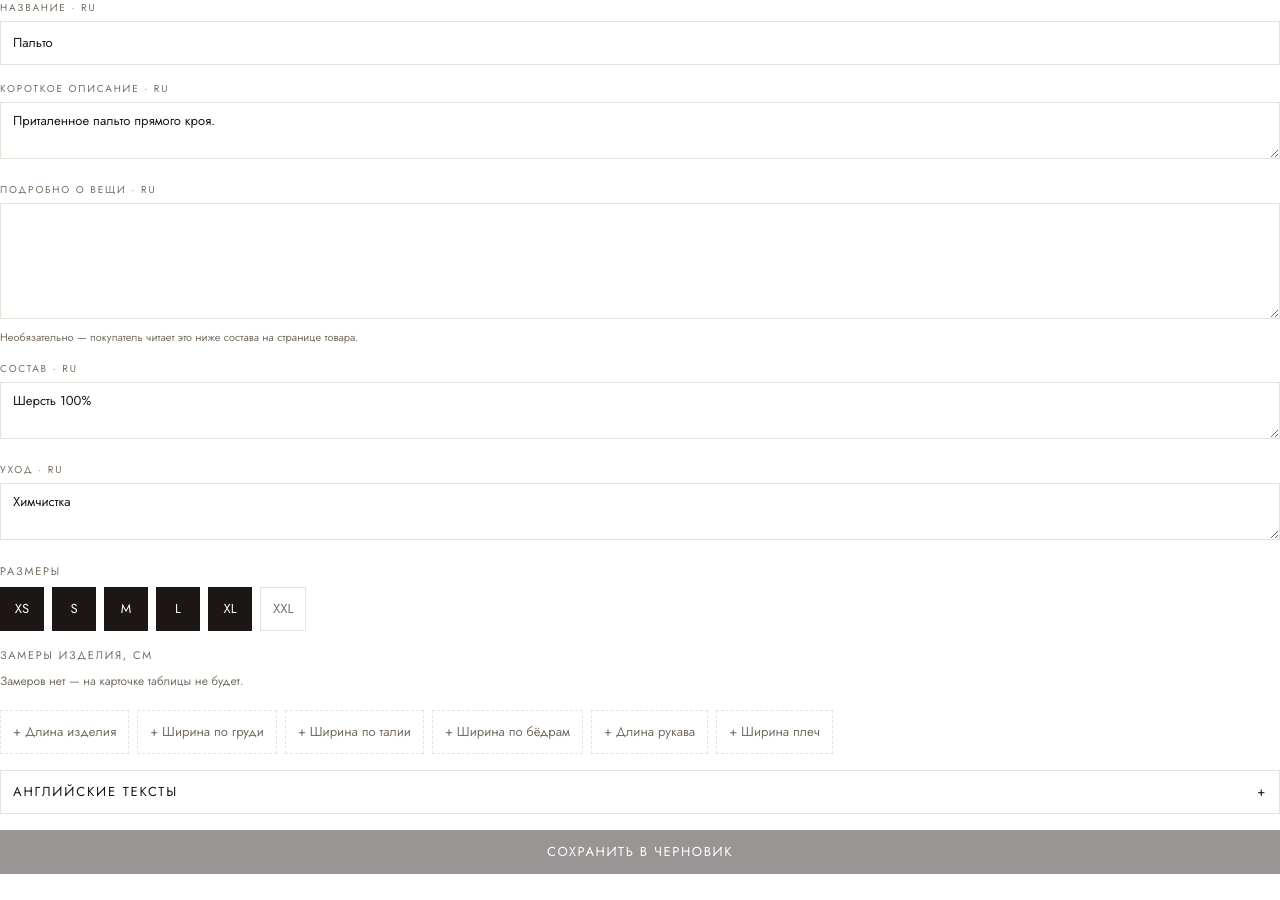
Test: ModelForm — замеры изделия › клетка не с шагом 0,5 — сказано у клетки, сохранение закрыто
Expected: the field labelled "Название · ru" is shown, 0,21 -> 1279,65
Click the button "+ Длина рукава" at (650, 732), box 591,710 -> 708,754
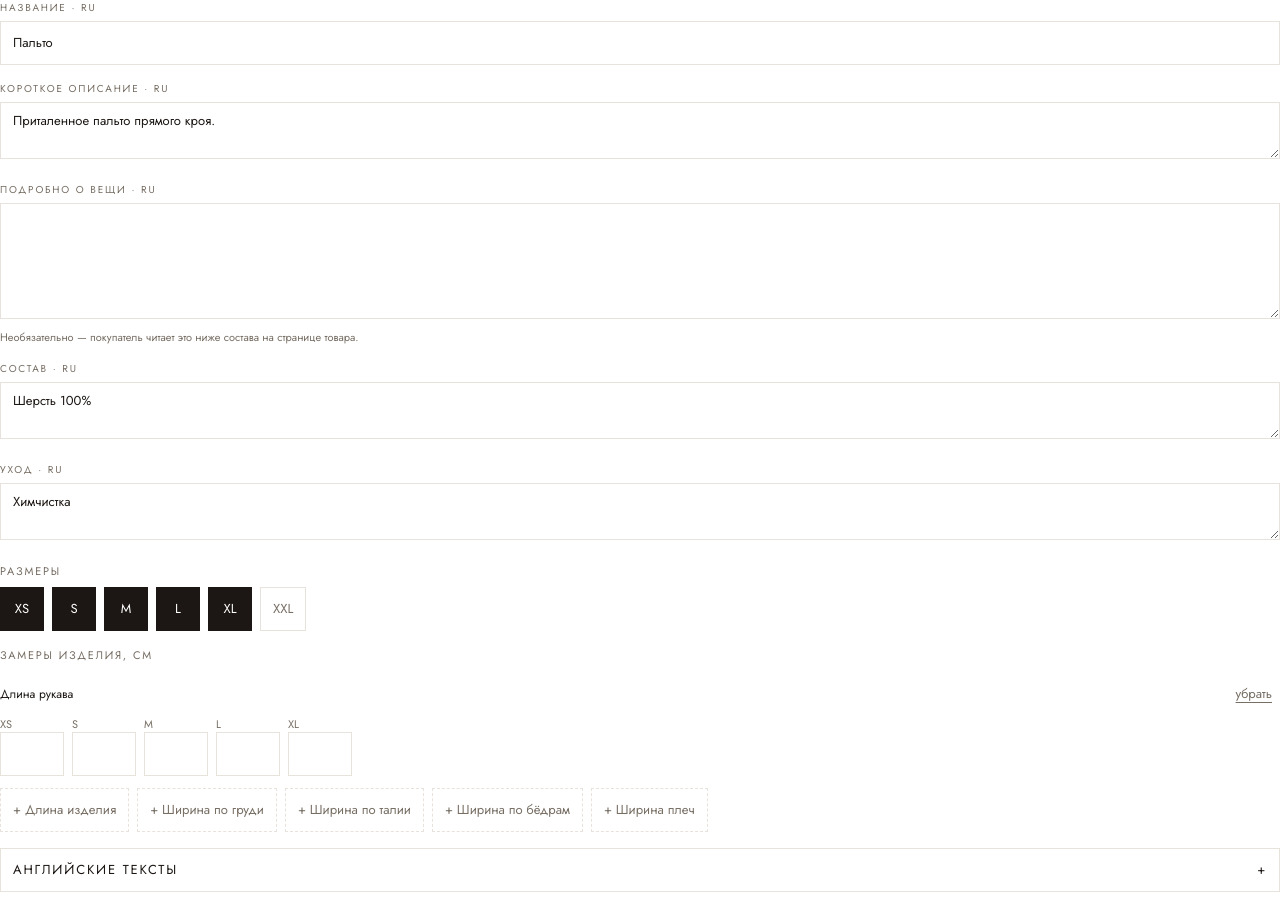
Type "60,3" into the field named "Длина рукава · M" at (176, 754), box 144,732 -> 208,776
(page scrolled)
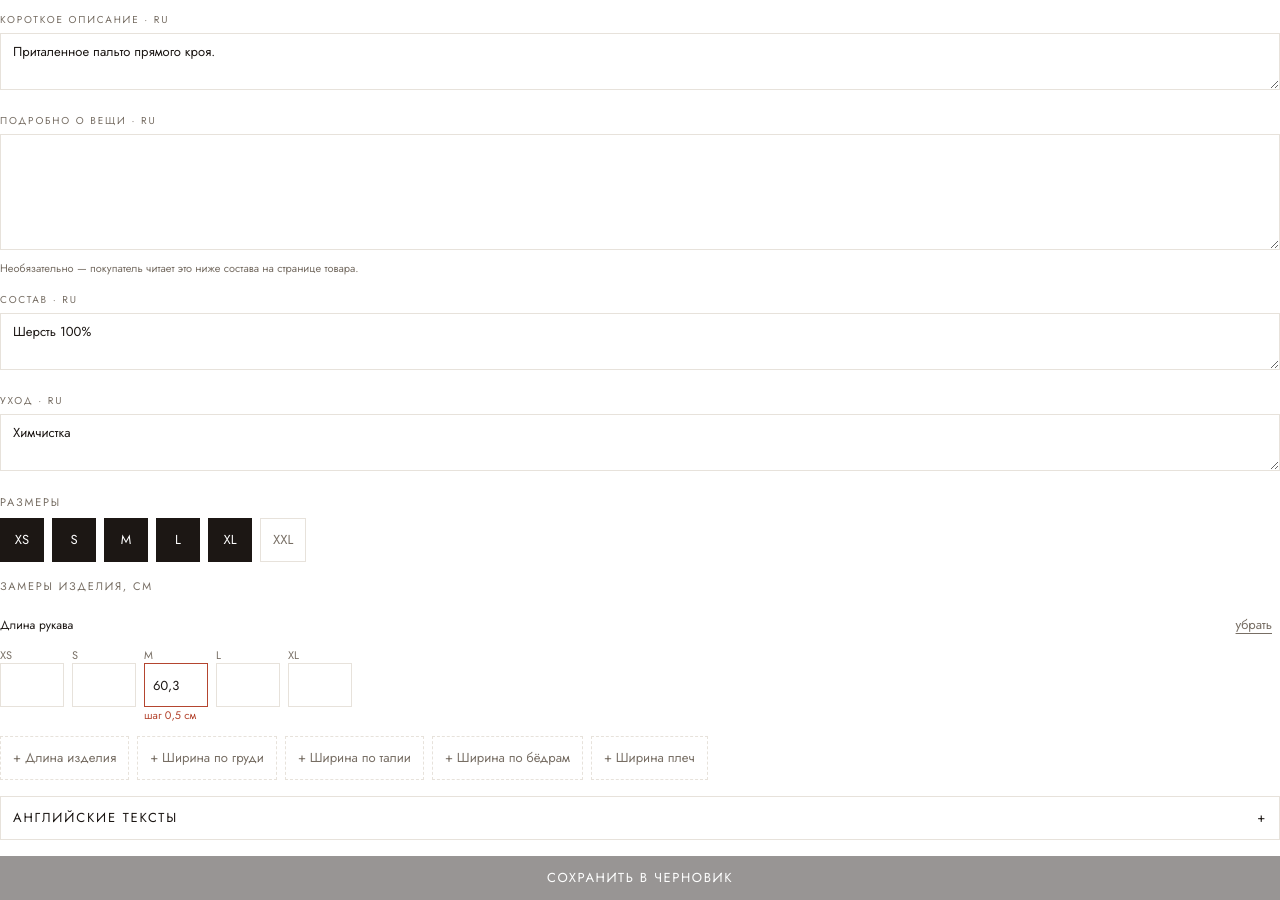
Expected: the button "Сохранить в черновик" is disabled, 0,856 -> 1279,899
Expected: the text "шаг 0,5 см" is shown, 144,707 -> 196,723
